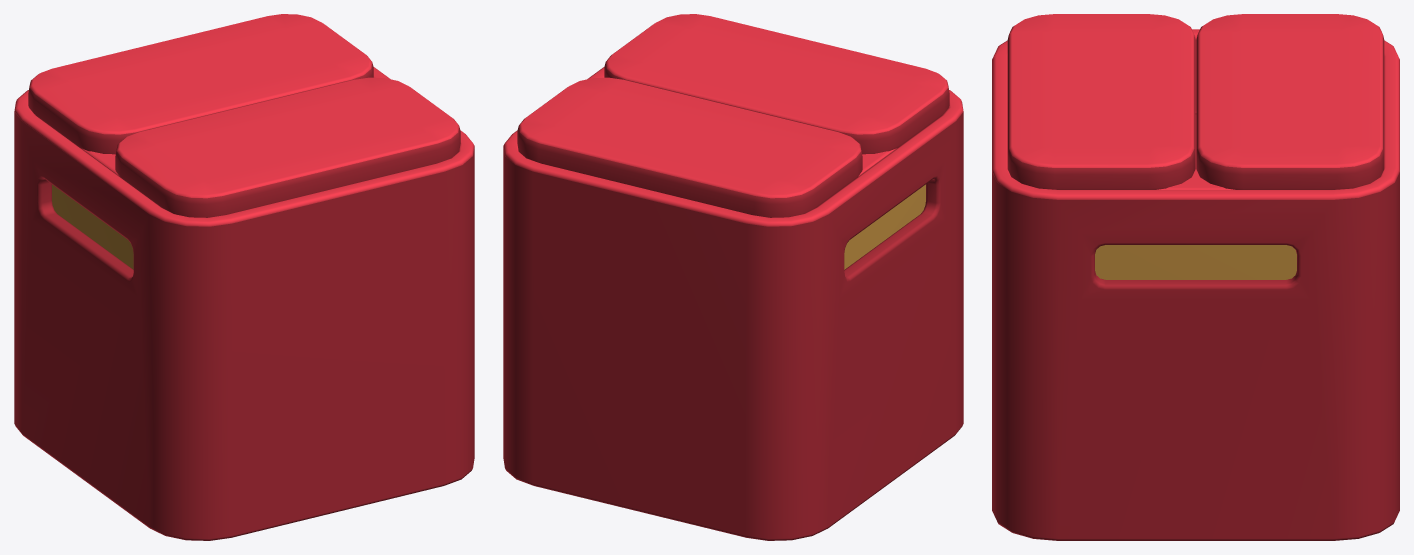
The picture shows the model from 3 angles, left to right: view 1: azimuth 30°, elevation 25°; view 2: azimuth 150°, elevation 25°; view 3: azimuth 270°, elevation 25°; orthographic projection. The views are drawn at different scales.
Visible parts, largest first — view 1: box10_color, top1_R, top1_L, box_S_a_box4_inner; view 2: box10_color, top1_L, top1_R, box_S_a_box4_inner; view 3: box10_color, top1_R, top1_L, box_S_a_box4_inner, top2_R.
Boxes of the visible parts, x1,y1,x2,y2 form: box10_color: [14, 66, 474, 540]; top1_R: [115, 77, 460, 217]; top1_L: [28, 14, 373, 154]; box_S_a_box4_inner: [52, 184, 133, 269]; box10_color: [503, 66, 963, 540]; top1_L: [517, 77, 862, 217]; top1_R: [604, 14, 949, 154]; box_S_a_box4_inner: [844, 184, 925, 269]; box10_color: [992, 29, 1399, 540]; top1_R: [1007, 14, 1195, 189]; top1_L: [1196, 14, 1384, 189]; box_S_a_box4_inner: [1095, 245, 1296, 279]; top2_R: [1157, 114, 1234, 189].
Size of the model in its own units: 12.75 by 13.04 by 13.04.
